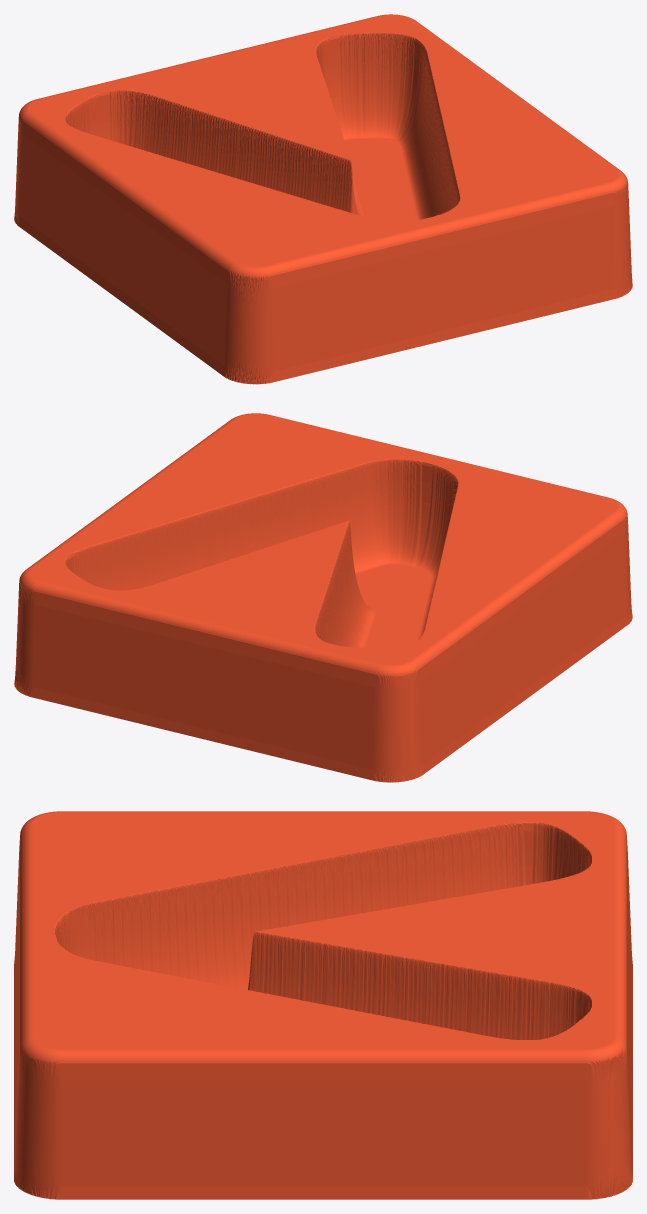
Rendered from mold.glb.
3 renders of one model, top to bottom at view 1: azimuth 30°, elevation 25°; view 2: azimuth 150°, elevation 25°; view 3: azimuth 270°, elevation 25°, orthographic. The views are drawn at different scales.
Visible parts, largest first — view 1: geometry_0; view 2: geometry_0; view 3: geometry_0.
Boxes of the visible parts, x1,y1,x2,y2 form: geometry_0: (14, 14, 632, 384); geometry_0: (14, 413, 632, 782); geometry_0: (14, 811, 632, 1199).
Bounding box in the file's own units: 0.1138 × 0.0299 × 0.1178.
